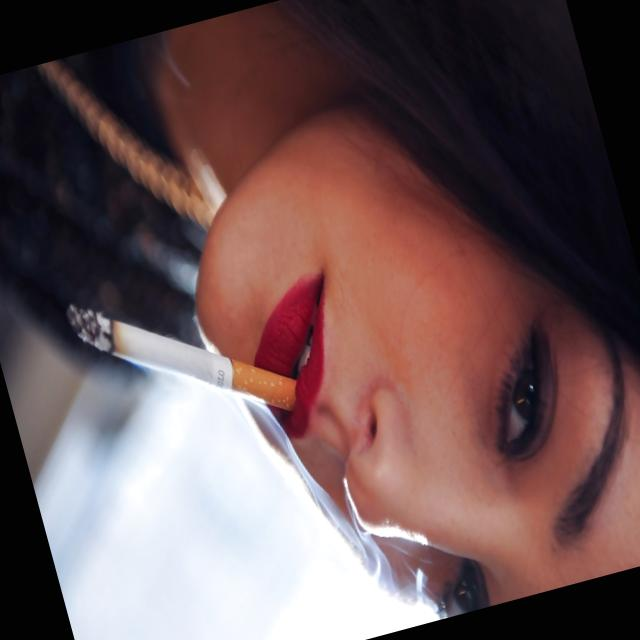smoke: (57, 235, 308, 468)
